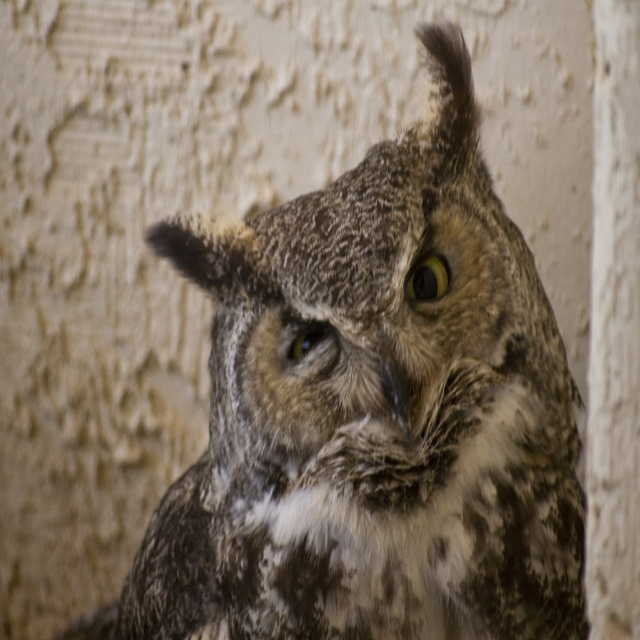Owl: (105, 14, 596, 640)
